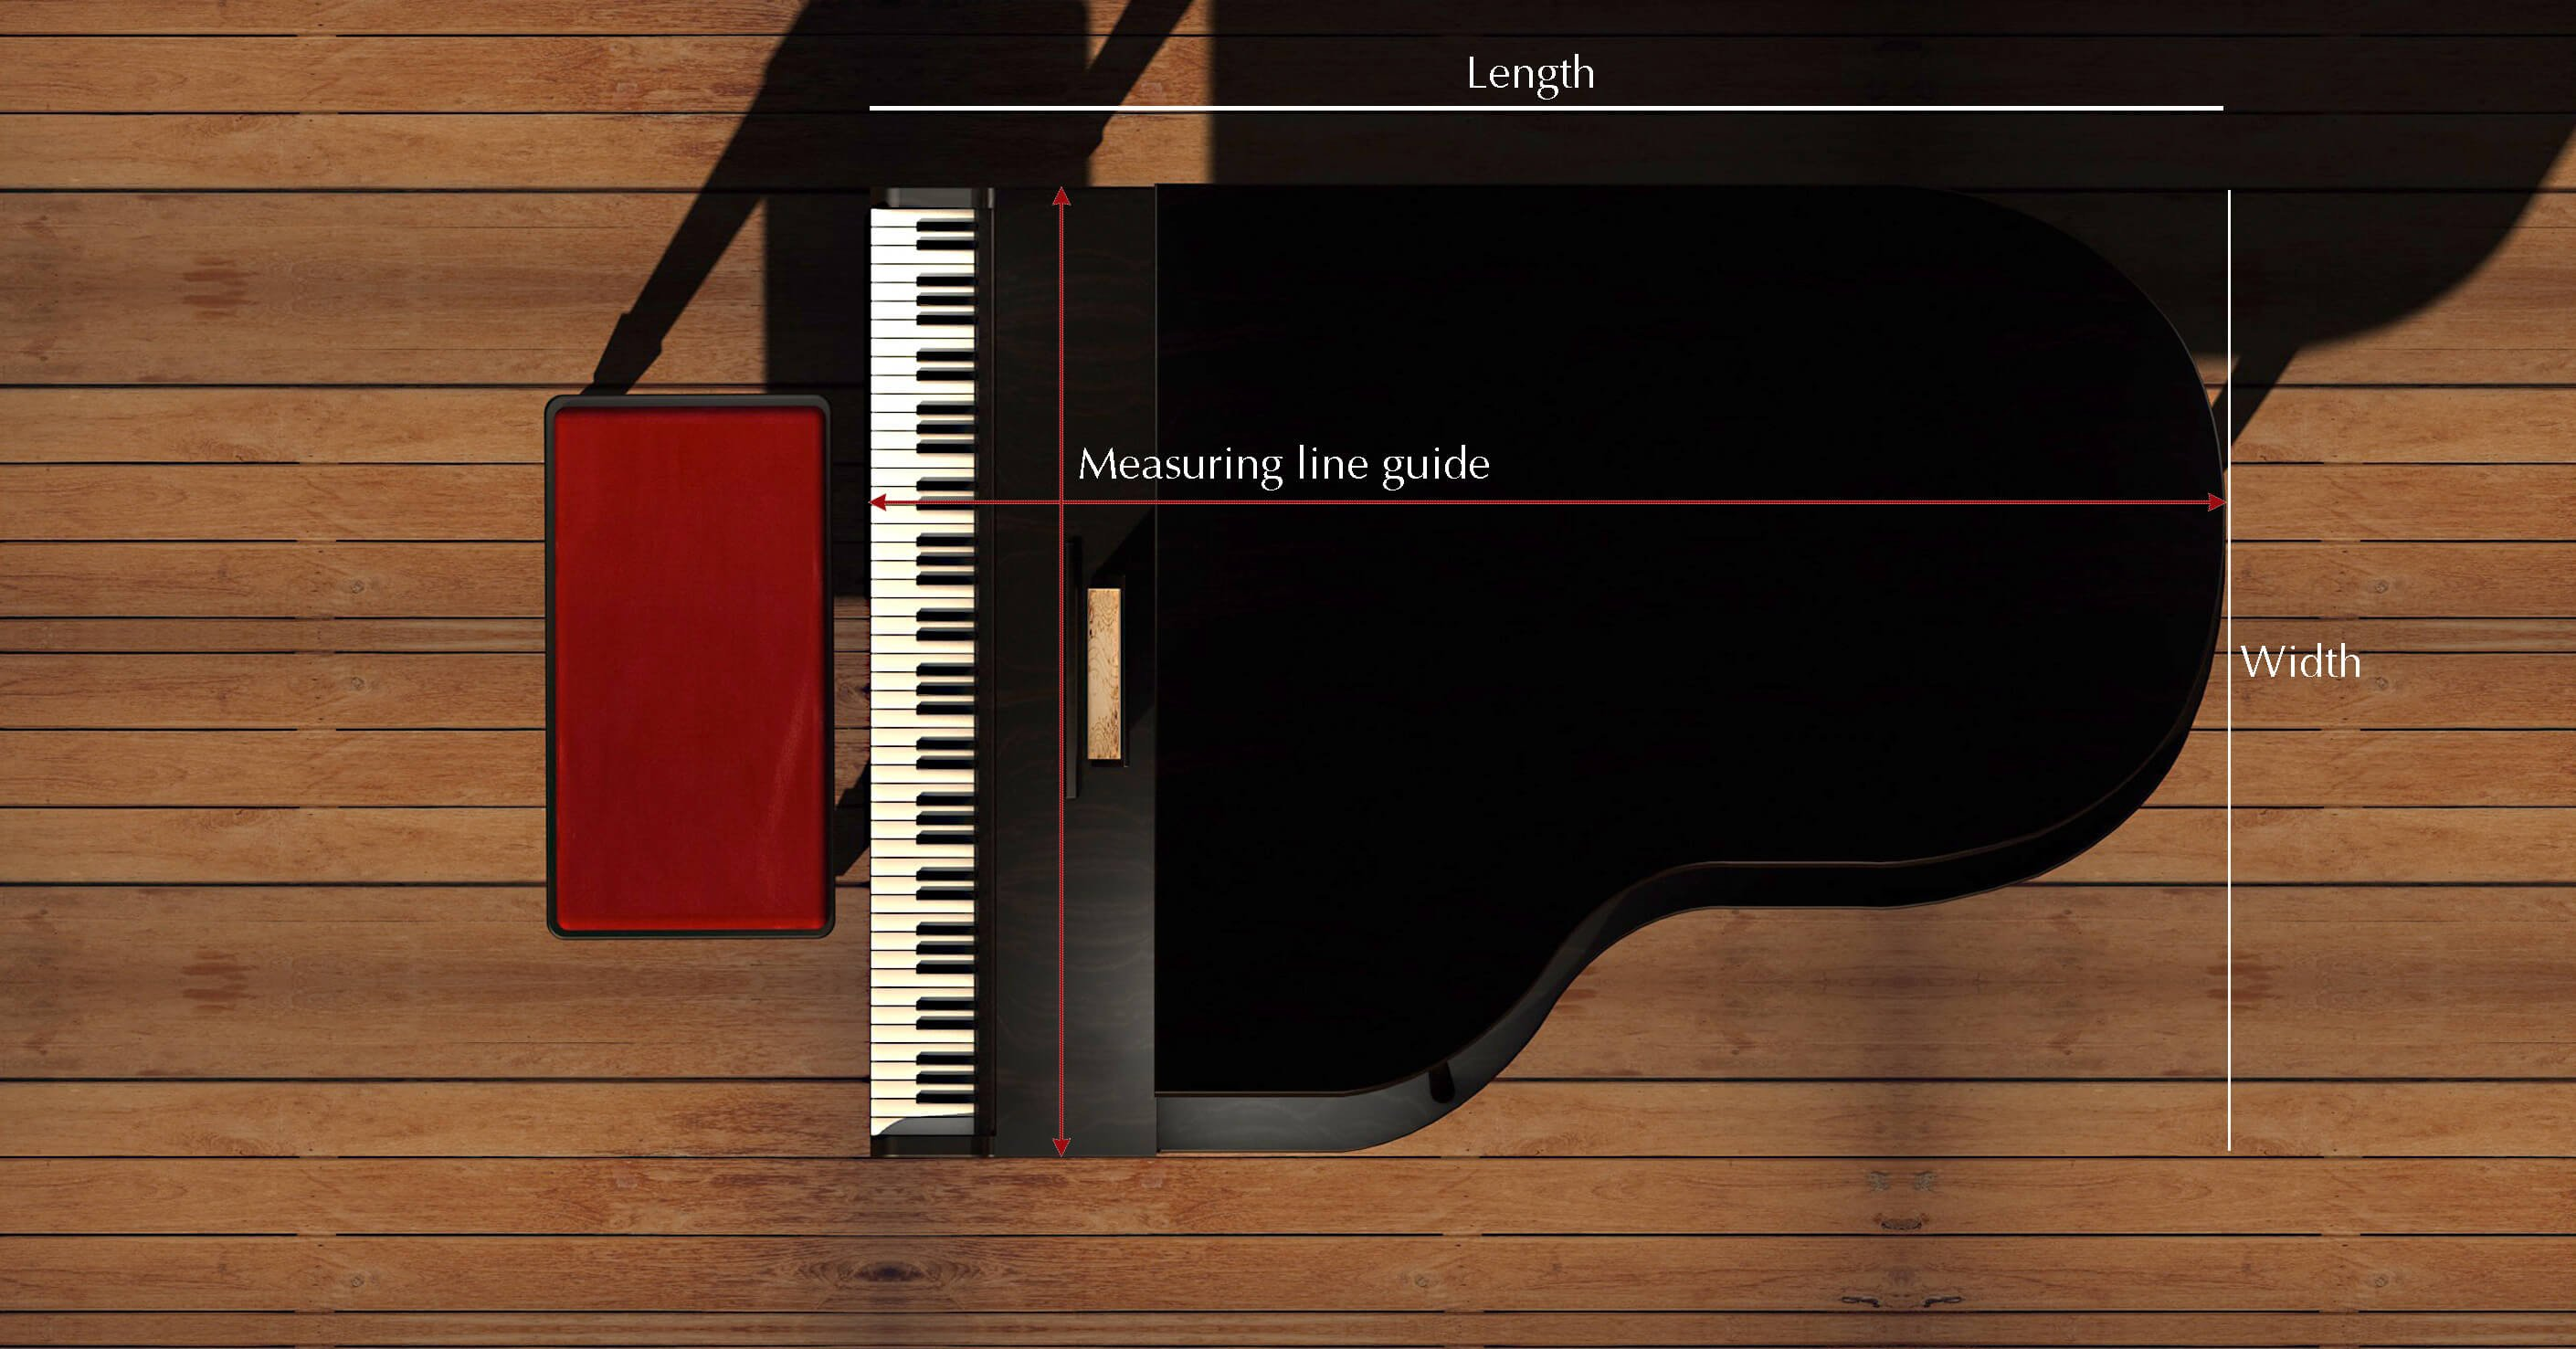GrandPiano: (474, 61, 2366, 1126)
